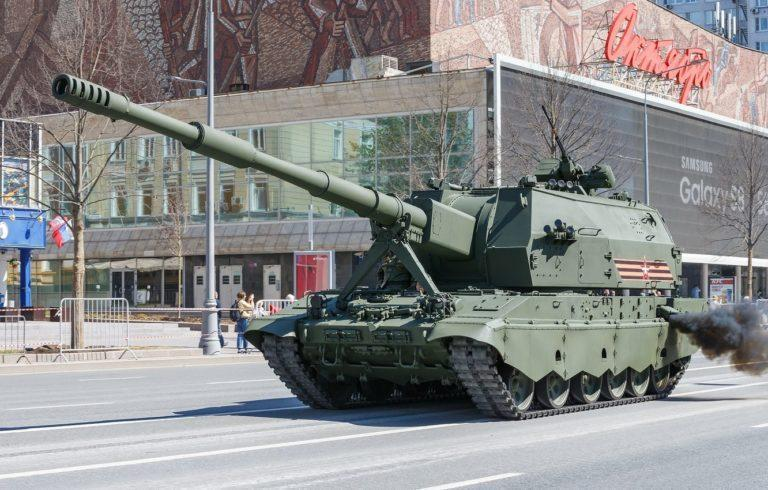sau: (45, 62, 734, 422)
